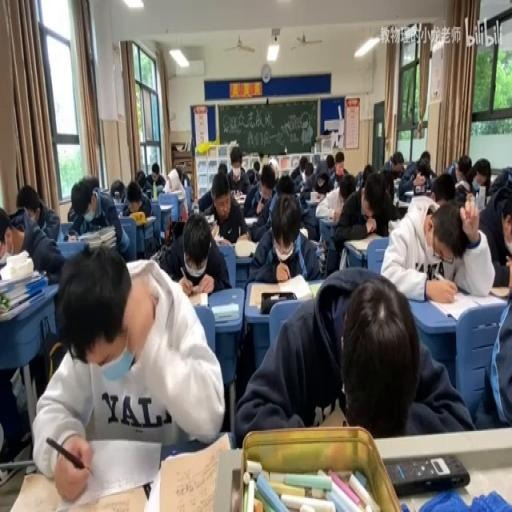calculator: (0, 262, 49, 320), (426, 286, 495, 320), (248, 275, 314, 307), (318, 401, 348, 427), (210, 300, 238, 322), (346, 236, 374, 253), (182, 288, 208, 306), (234, 238, 256, 258), (318, 214, 334, 240), (318, 240, 327, 276), (488, 284, 510, 298), (214, 233, 234, 246), (308, 282, 322, 297), (387, 219, 400, 235), (0, 250, 12, 266), (112, 200, 125, 214), (232, 193, 246, 205), (242, 214, 258, 224), (210, 222, 219, 237), (307, 192, 320, 202), (299, 226, 308, 239), (159, 203, 172, 212), (202, 213, 214, 222), (155, 184, 165, 194), (404, 189, 414, 199), (307, 239, 319, 247), (143, 216, 155, 223), (394, 176, 400, 188)
paper: (33, 240, 222, 500), (237, 268, 472, 446), (382, 189, 494, 302), (246, 189, 322, 283), (473, 256, 512, 428), (161, 209, 229, 293), (333, 170, 391, 268), (67, 174, 131, 260), (478, 175, 512, 279), (15, 183, 61, 242), (398, 151, 435, 199), (195, 164, 228, 214), (0, 203, 25, 262), (122, 179, 152, 222), (464, 157, 490, 199), (226, 145, 248, 193), (430, 170, 457, 204), (259, 165, 276, 199), (331, 151, 347, 185), (148, 160, 166, 190), (379, 168, 395, 199), (290, 154, 306, 184), (389, 150, 405, 176), (315, 162, 330, 189), (110, 179, 126, 202), (276, 174, 294, 194), (176, 164, 190, 188), (338, 181, 354, 202), (454, 181, 468, 202), (447, 158, 460, 180), (362, 163, 374, 185), (302, 160, 312, 178), (135, 171, 146, 186), (245, 166, 254, 184), (325, 154, 334, 172), (418, 170, 428, 184), (260, 154, 270, 168), (420, 155, 429, 169), (217, 162, 226, 175), (67, 206, 74, 222), (253, 160, 259, 174)
person: (386, 452, 470, 494), (396, 205, 408, 219)
